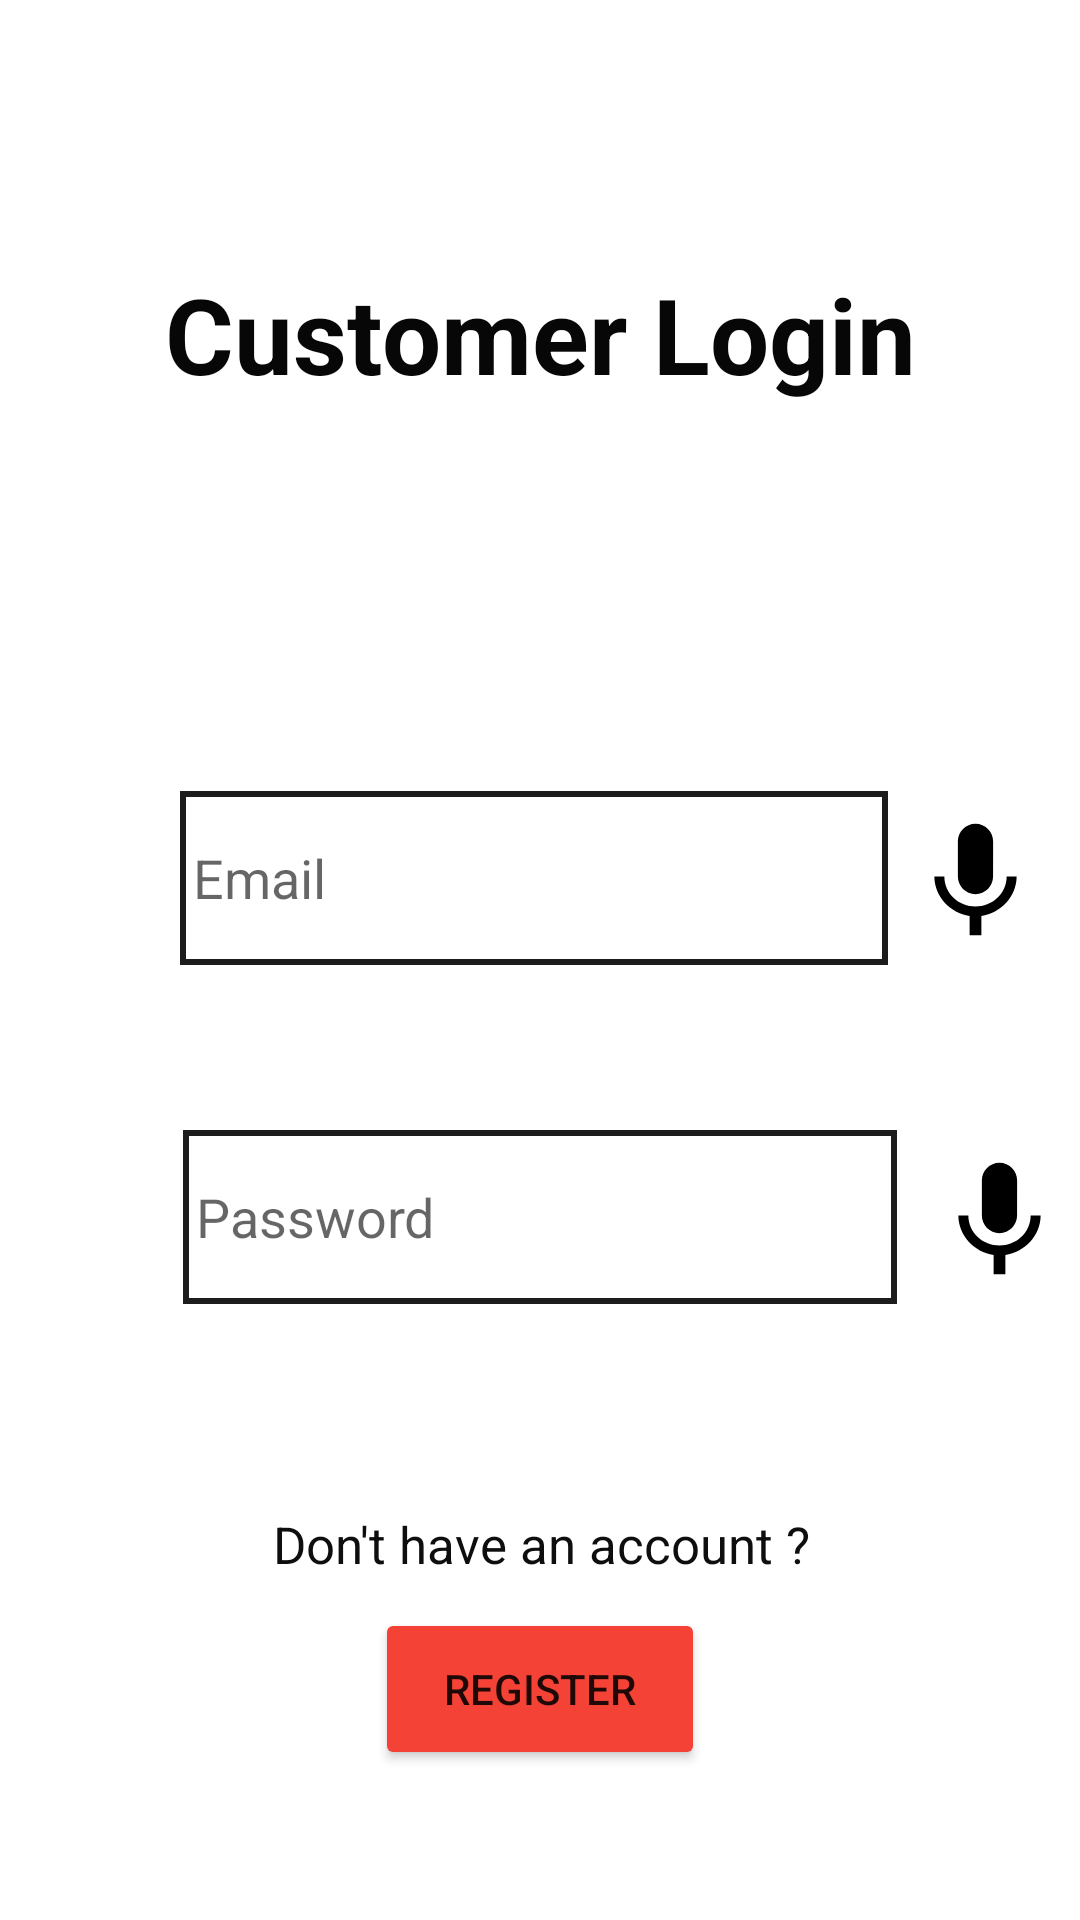

Where to tap for icons on this 1080*1920 app screen, as (x,y):
keyboard voice: (975,879), (999,1218)
